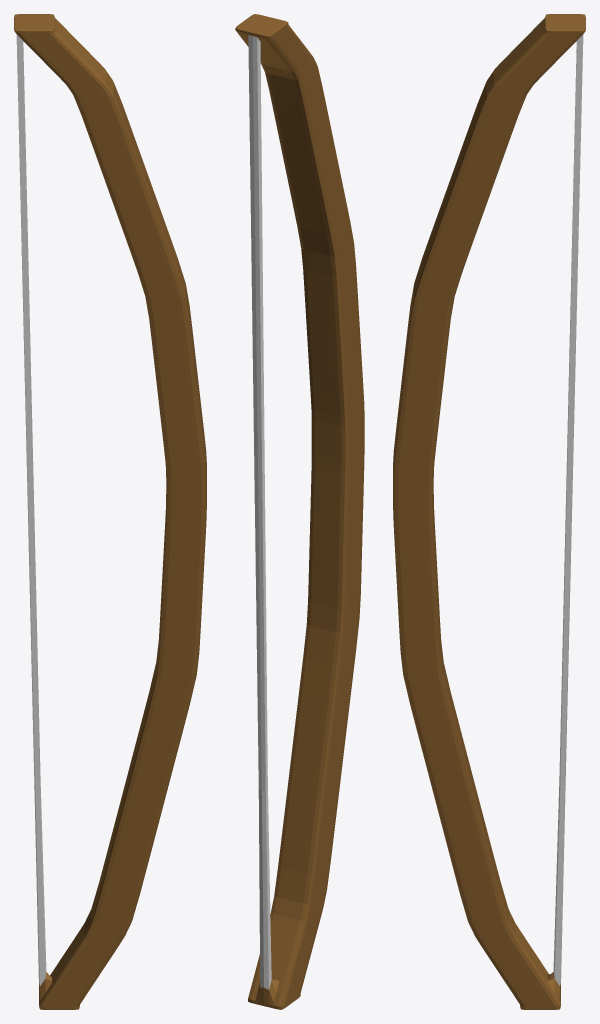
File: Bow.fbx
3 renders of one model, left to right at view 1: azimuth 90°, elevation 25°; view 2: azimuth 150°, elevation 25°; view 3: azimuth 270°, elevation 25°, orthographic.
Parts seen in each view (by area): view 1: Cube; view 2: Cube; view 3: Cube.
Part boxes in pixels (<box>): Cube: <box>14,14,206,1009</box>; Cube: <box>235,14,364,1009</box>; Cube: <box>393,14,585,1009</box>.
Bounding box in the file's own units: 3.76 × 99.9 × 17.82.
